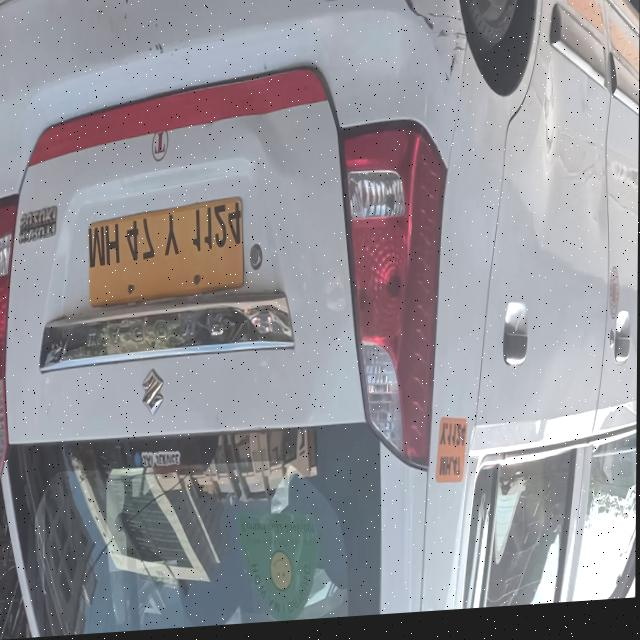plate: (87, 199, 245, 311), (432, 416, 474, 496)
